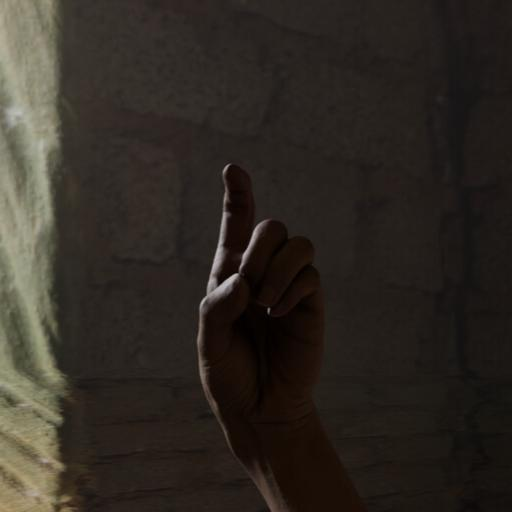X: (188, 159, 332, 434)
